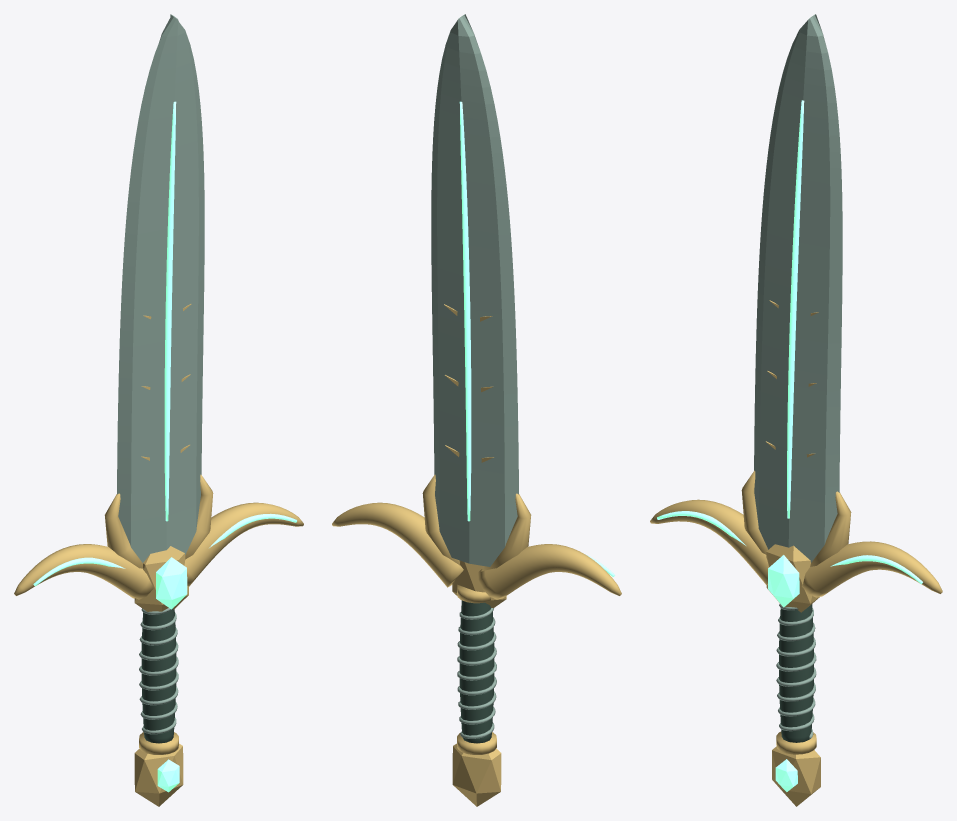
File: verdant_crownblade.glb
The picture shows the model from 3 angles, left to right: view 1: azimuth 30°, elevation 25°; view 2: azimuth 150°, elevation 25°; view 3: azimuth 330°, elevation 25°; orthographic projection.
Visible parts, largest first — view 1: Verdant Crownblade blade, Tapered leather grip.002, Swept guard wing.004, Swept guard wing.005, Curved fuller inlay.004, Faceted pommel.002, Helical grip binding.002, Guard gemstone.002, Guard socket.002, Crown blade prong.002, Crown blade prong.003, Pommel inset.002 (+1 smaller); view 2: Verdant Crownblade blade, Swept guard wing.004, Tapered leather grip.002, Swept guard wing.005, Curved fuller inlay.005, Faceted pommel.002, Helical grip binding.002, Crown blade prong.002, Crown blade prong.003, Guard socket.002, Grip collar.004; view 3: Verdant Crownblade blade, Tapered leather grip.002, Swept guard wing.005, Swept guard wing.004, Curved fuller inlay.004, Helical grip binding.002, Faceted pommel.002, Guard socket.002, Guard gemstone.002, Crown blade prong.003, Crown blade prong.002, Grip collar.004 (+1 smaller).
Part boxes in pixels (<box>): Verdant Crownblade blade: <box>117,14,204,562</box>; Tapered leather grip.002: <box>141,609,176,743</box>; Swept guard wing.004: <box>14,544,153,599</box>; Swept guard wing.005: <box>184,502,303,586</box>; Curved fuller inlay.004: <box>164,101,176,521</box>; Faceted pommel.002: <box>134,743,183,806</box>; Helical grip binding.002: <box>139,607,178,734</box>; Guard gemstone.002: <box>156,557,187,609</box>; Guard socket.002: <box>134,546,188,611</box>; Crown blade prong.002: <box>104,493,143,568</box>; Crown blade prong.003: <box>185,474,213,559</box>; Pommel inset.002: <box>157,759,179,792</box>; Verdant Crownblade blade: <box>431,14,518,566</box>; Swept guard wing.004: <box>478,544,621,599</box>; Tapered leather grip.002: <box>459,600,494,743</box>; Swept guard wing.005: <box>332,502,463,587</box>; Curved fuller inlay.005: <box>459,101,471,521</box>; Faceted pommel.002: <box>452,743,501,806</box>; Helical grip binding.002: <box>457,608,496,738</box>; Crown blade prong.002: <box>481,493,531,571</box>; Crown blade prong.003: <box>422,474,460,565</box>; Guard socket.002: <box>452,560,506,608</box>; Grip collar.004: <box>457,732,496,754</box>; Verdant Crownblade blade: <box>754,14,842,562</box>; Tapered leather grip.002: <box>779,604,813,742</box>; Swept guard wing.005: <box>802,541,942,597</box>; Swept guard wing.004: <box>650,499,768,585</box>; Curved fuller inlay.004: <box>787,100,804,518</box>; Helical grip binding.002: <box>776,604,816,739</box>; Faceted pommel.002: <box>772,746,820,806</box>; Guard socket.002: <box>766,544,819,612</box>; Guard gemstone.002: <box>768,555,799,607</box>; Crown blade prong.003: <box>810,491,851,566</box>; Crown blade prong.002: <box>741,470,768,554</box>; Grip collar.004: <box>776,731,816,754</box>.
Bounding box in the file's own units: 2.25 × 5.85 × 0.3739.
